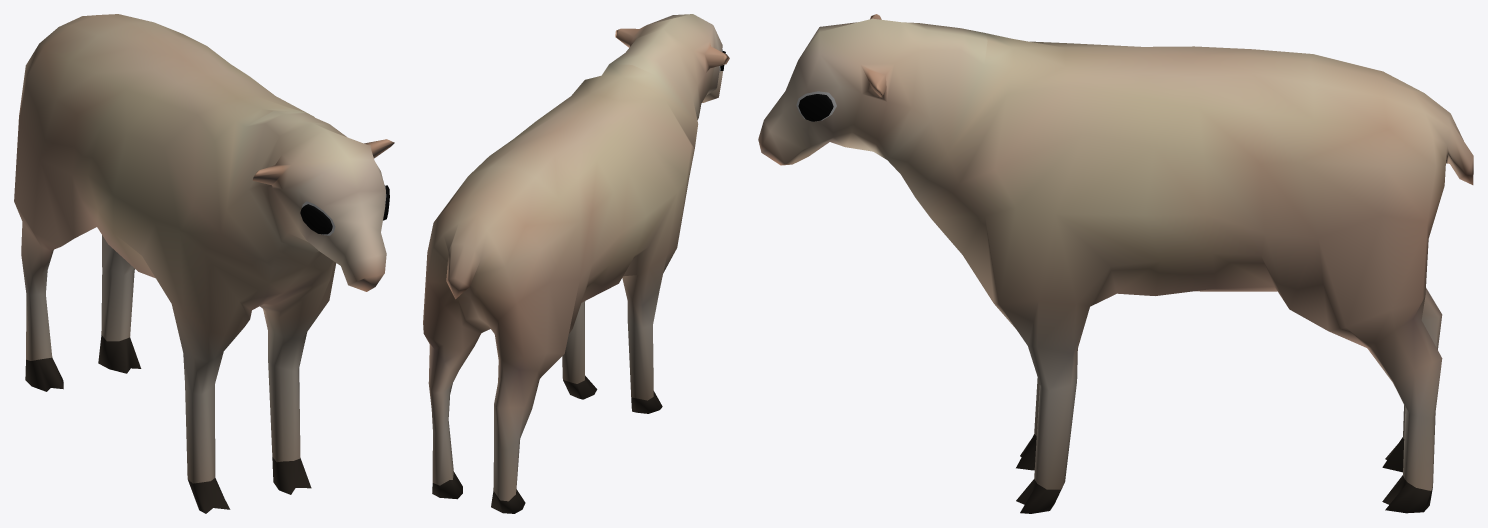
Rendered from Sheep.fbx.
The picture shows the model from 3 angles, left to right: view 1: azimuth 30°, elevation 25°; view 2: azimuth 150°, elevation 25°; view 3: azimuth 270°, elevation 25°; orthographic projection. The views are drawn at different scales.
Parts seen in each view (by area): view 1: base.074; view 2: base.074; view 3: base.074.
Part boxes in pixels (x1,y1,x2,y2): base.074: [14, 14, 394, 513]; base.074: [423, 14, 729, 513]; base.074: [758, 14, 1473, 513].
Size of the model in its own units: 0.4059 by 0.9148 by 1.27.
